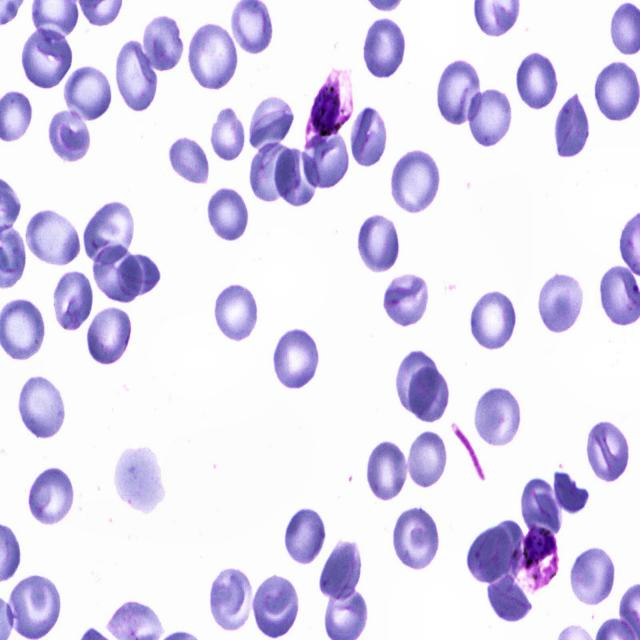difficult: (303, 66, 352, 143)
red blood cell: (468, 520, 525, 586), (83, 199, 135, 269), (389, 148, 442, 216), (8, 572, 60, 639), (113, 445, 165, 511), (434, 55, 482, 126), (23, 208, 81, 266), (18, 373, 66, 442), (269, 327, 321, 390), (472, 386, 524, 449), (393, 506, 442, 572), (188, 25, 237, 91), (22, 28, 74, 90), (536, 271, 586, 335), (253, 572, 300, 640), (116, 41, 159, 115), (468, 290, 520, 350), (26, 467, 76, 528), (86, 304, 135, 366), (587, 418, 632, 484), (92, 245, 142, 304), (362, 16, 408, 80), (63, 63, 112, 123), (594, 59, 640, 122), (383, 271, 432, 330), (570, 546, 617, 607), (466, 87, 512, 149), (396, 353, 441, 416), (209, 566, 252, 631), (51, 269, 95, 332), (207, 184, 253, 244), (274, 148, 320, 208), (250, 141, 296, 201), (319, 538, 362, 602), (348, 104, 390, 169), (364, 439, 408, 501), (552, 91, 592, 158), (516, 50, 559, 112), (141, 12, 183, 75), (406, 429, 450, 488), (213, 285, 260, 340), (247, 98, 294, 152), (522, 477, 562, 540), (358, 214, 402, 271), (302, 134, 348, 188), (408, 366, 450, 424), (284, 508, 326, 565), (486, 575, 532, 624), (168, 139, 214, 187), (48, 112, 92, 162), (210, 108, 246, 164), (118, 253, 161, 296), (552, 470, 590, 516)
trophozoite: (510, 524, 560, 591)
